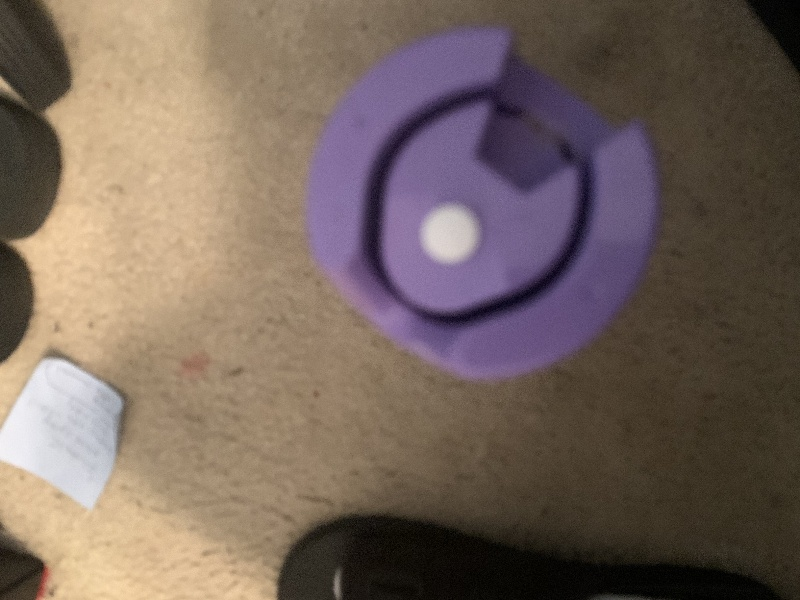Aspirin: (414, 196, 488, 271)
